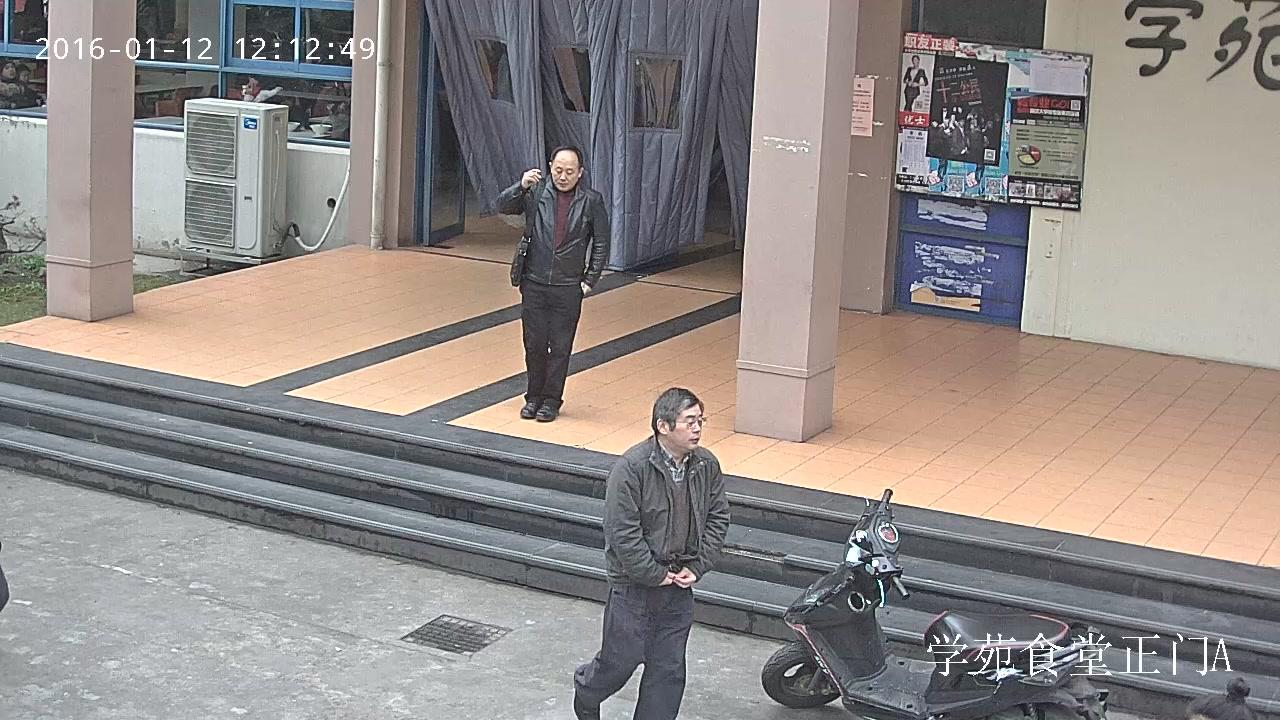person: (573, 385, 732, 720), (490, 144, 612, 422), (319, 84, 351, 143), (902, 56, 929, 111), (0, 59, 27, 110)
